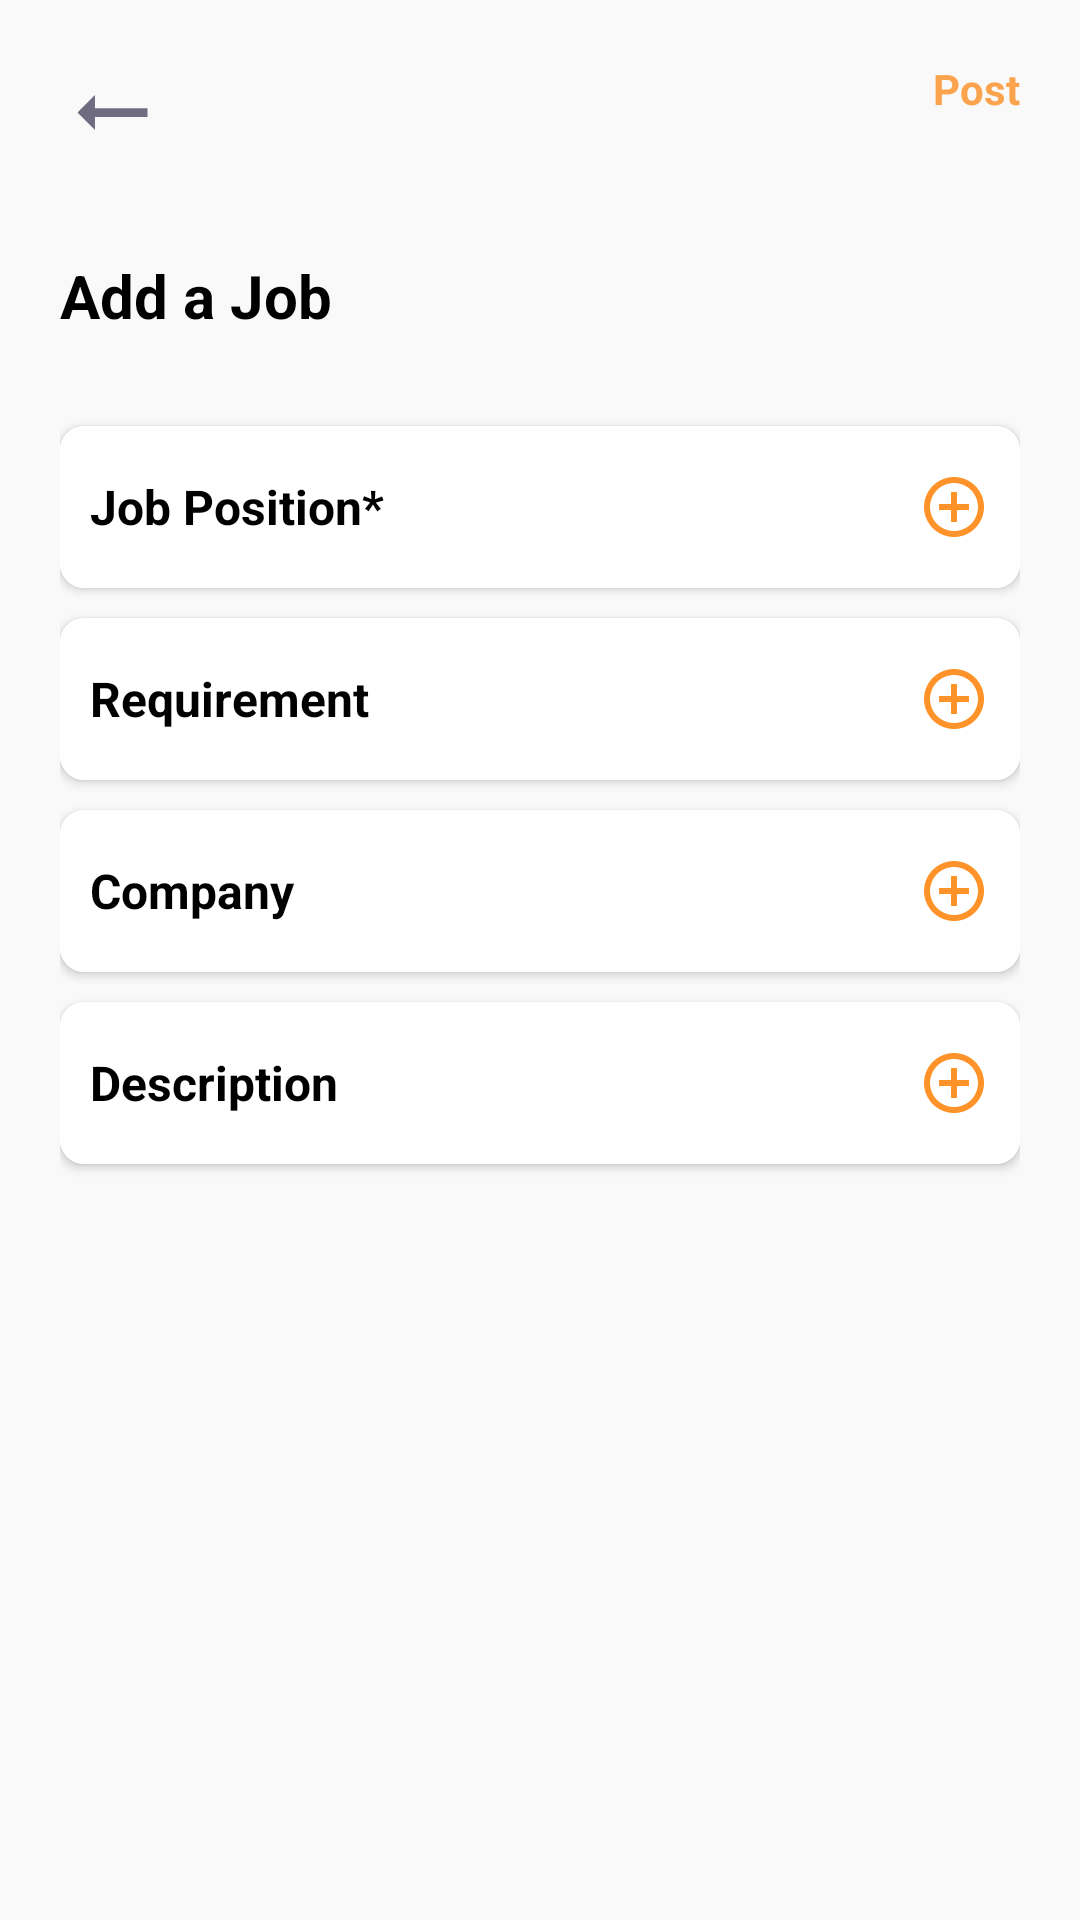

Where to tap for icons on this 1080px×1920px app screen, as (x=x, y=y):
add more: (x=954, y=507), (x=954, y=699), (x=954, y=891), (x=954, y=1083)
